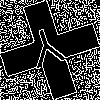Y: (25, 25, 71, 79)
